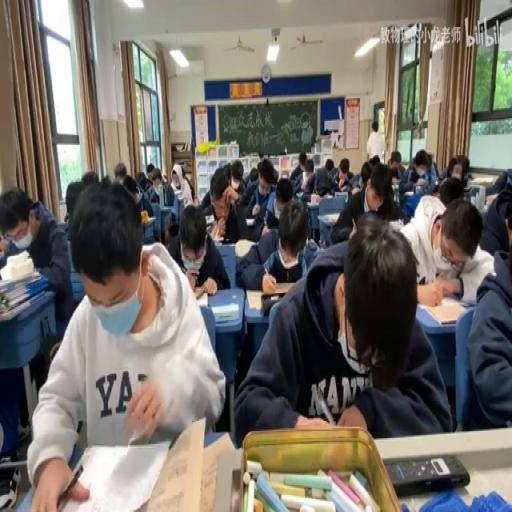calculator: (53, 435, 171, 509), (194, 431, 235, 512), (0, 287, 46, 319), (418, 298, 466, 324), (245, 286, 292, 311), (0, 267, 38, 294), (318, 194, 346, 216), (210, 302, 238, 322), (234, 238, 256, 256), (194, 288, 208, 306), (484, 193, 499, 209), (391, 180, 400, 204), (470, 175, 495, 183), (462, 184, 474, 200), (388, 219, 404, 230), (322, 212, 339, 222), (305, 196, 320, 206), (172, 189, 184, 201), (305, 238, 317, 250), (458, 299, 474, 307), (143, 214, 155, 224), (205, 213, 214, 226), (333, 191, 346, 199), (245, 216, 255, 225), (295, 190, 305, 198), (404, 191, 414, 196)
paper: (235, 218, 447, 445), (0, 185, 73, 458), (397, 188, 493, 304), (462, 245, 510, 428), (329, 159, 400, 245), (165, 200, 229, 294), (239, 155, 276, 232), (478, 176, 512, 258), (398, 146, 435, 194), (146, 168, 176, 215), (200, 164, 230, 210), (313, 156, 339, 196), (438, 152, 468, 186), (365, 120, 384, 164), (64, 180, 83, 220), (122, 173, 140, 205), (229, 161, 245, 196), (288, 165, 302, 193), (274, 189, 290, 213), (358, 161, 372, 186), (80, 170, 98, 186), (114, 160, 127, 180), (506, 212, 512, 252), (339, 170, 352, 184), (248, 166, 258, 184), (146, 160, 155, 180), (136, 171, 146, 189), (430, 158, 438, 180), (297, 152, 306, 171), (414, 155, 424, 171), (390, 150, 401, 164), (99, 174, 111, 186), (389, 162, 399, 176), (224, 161, 230, 179), (303, 163, 312, 175), (460, 164, 469, 176), (370, 155, 379, 165), (350, 185, 360, 193), (258, 150, 265, 160), (161, 171, 166, 182), (322, 128, 331, 134)
person: (386, 452, 470, 495)
